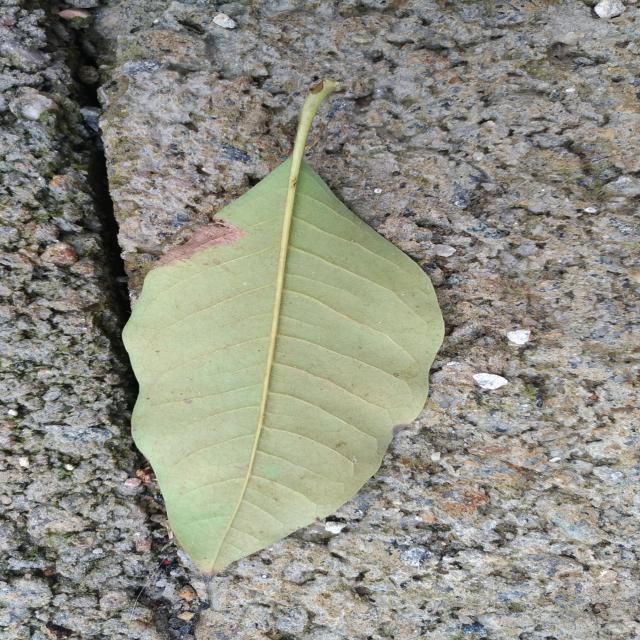coffee: (122, 79, 444, 574)
